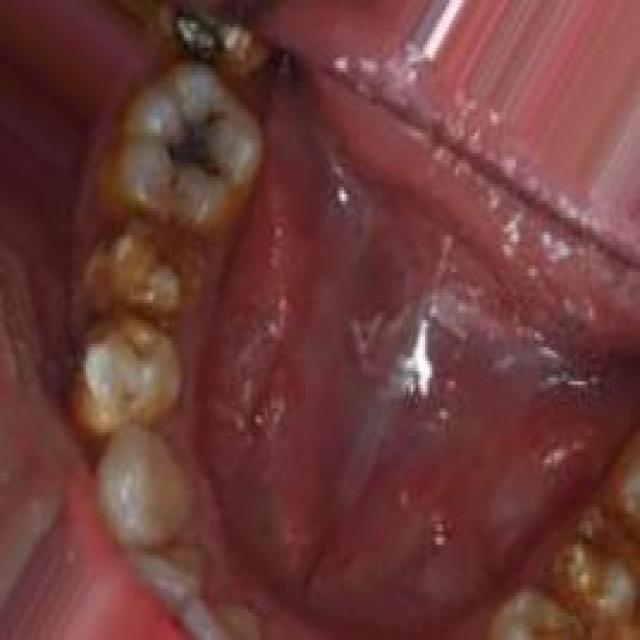caries: (158, 88, 235, 195)
